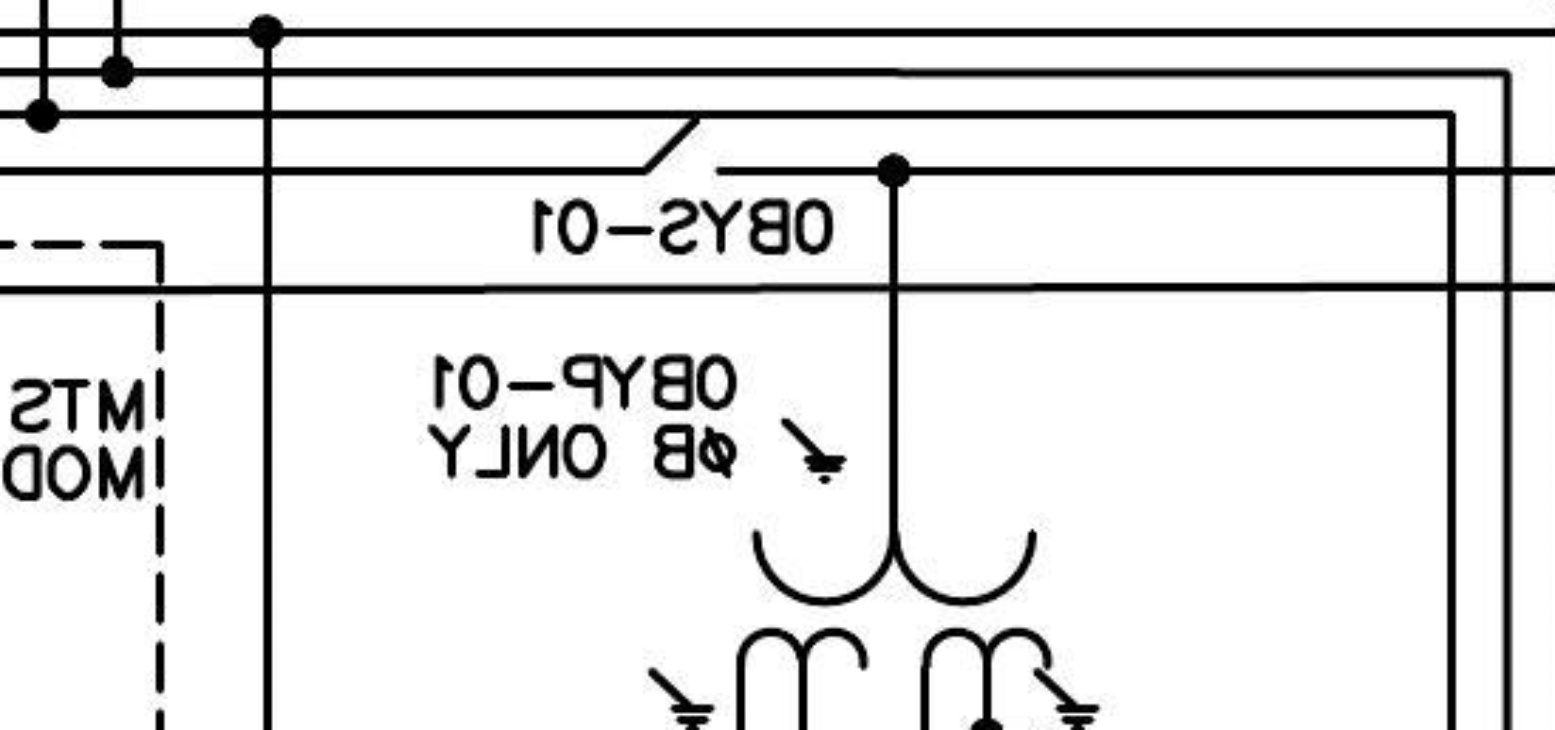115_ds: (642, 119, 727, 177)
